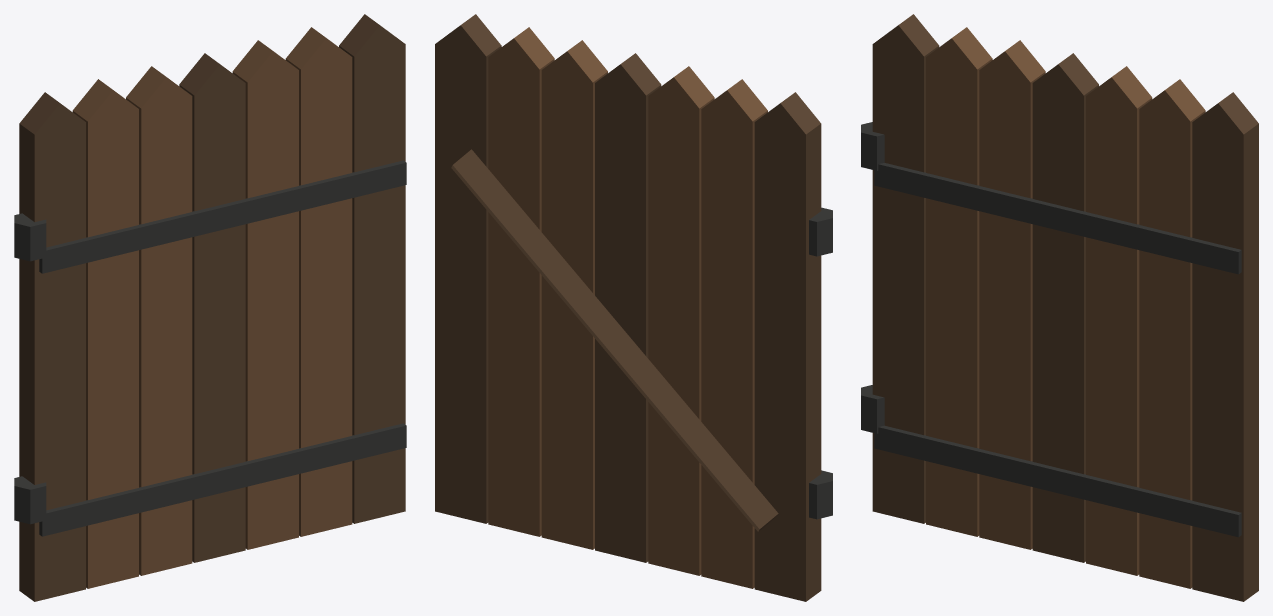
File: ward_gate_leaf.glb
3 renders of one model, left to right at view 1: azimuth 30°, elevation 25°; view 2: azimuth 150°, elevation 25°; view 3: azimuth 330°, elevation 25°, orthographic.
Parts seen in each view (by area): view 1: Ward gate leaf; view 2: Ward gate leaf; view 3: Ward gate leaf.
Part boxes in pixels (x1,y1,x2,y2): Ward gate leaf: (14,14,406,601); Ward gate leaf: (435,14,832,601); Ward gate leaf: (861,14,1258,601).
Size of the model in its own units: 1.53 by 1.86 by 0.2206.
